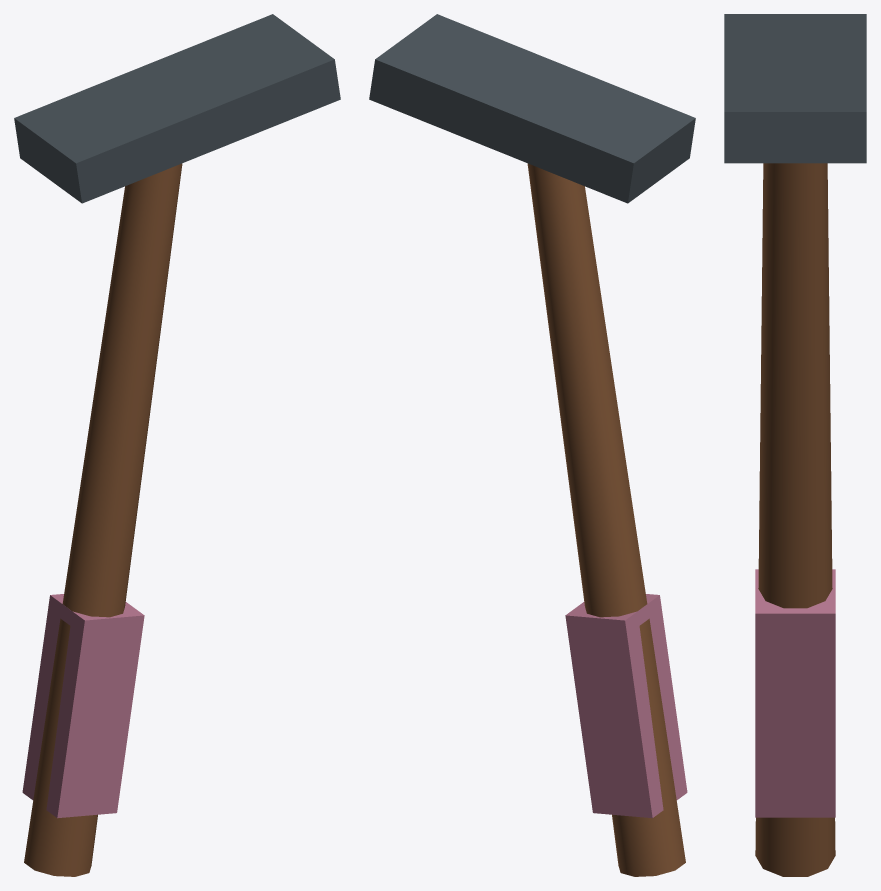
File: tool_hoe.glb
3 views of the same model, side by side, from view 1: azimuth 30°, elevation 25°; view 2: azimuth 150°, elevation 25°; view 3: azimuth 270°, elevation 25° (orthographic). The views are drawn at different scales.
Visible parts, largest first — view 1: handle, head, grip_wrap; view 2: handle, head, grip_wrap; view 3: handle, head, grip_wrap.
Boxes of the visible parts, box(x1,y1,x2,y2) form: handle: box(24, 163, 182, 876); head: box(14, 14, 340, 203); grip_wrap: box(22, 594, 144, 818); handle: box(527, 163, 685, 876); head: box(369, 14, 695, 203); grip_wrap: box(565, 594, 687, 818); handle: box(755, 163, 835, 876); head: box(724, 14, 866, 163); grip_wrap: box(755, 569, 835, 817).
Size of what is drawn, in the model's own units: 0.8361 by 2.2 by 0.32.
